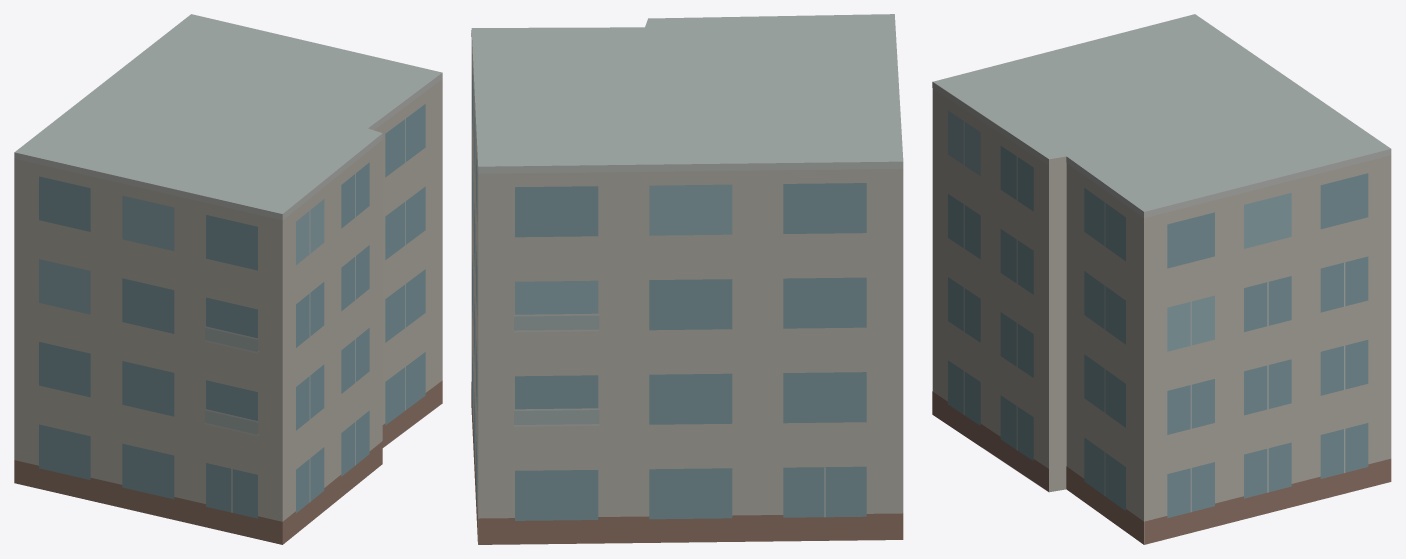
File: survey-upis-32862738.glb
The picture shows the model from 3 angles, left to right: view 1: azimuth 30°, elevation 25°; view 2: azimuth 150°, elevation 25°; view 3: azimuth 270°, elevation 25°; orthographic projection. The views are drawn at different scales.
Visible parts, largest first — view 1: survey-upis-32862738.tmp; view 2: survey-upis-32862738.tmp; view 3: survey-upis-32862738.tmp.
Boxes of the visible parts, x1,y1,x2,y2 form: survey-upis-32862738.tmp: (14, 14, 442, 544); survey-upis-32862738.tmp: (471, 14, 903, 544); survey-upis-32862738.tmp: (932, 14, 1391, 544).
Size of the model in its own units: 16.46 by 12.9 by 16.12.
